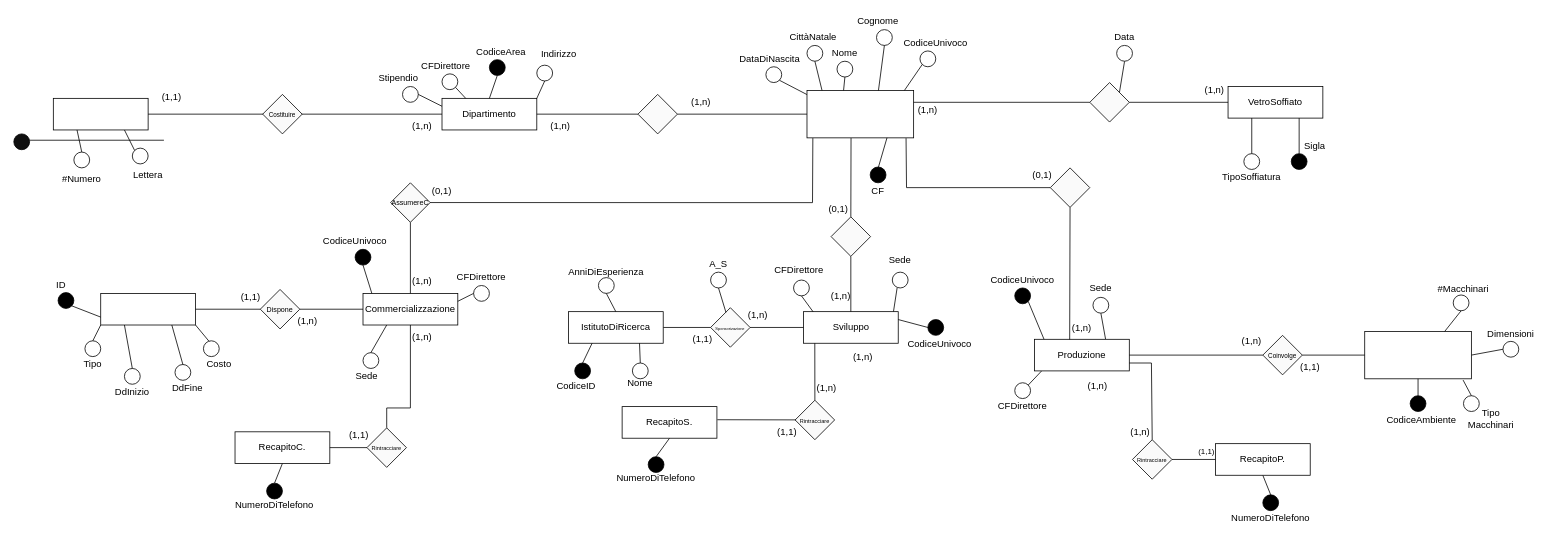
Some shapes in this 1548 by 540 pixel diagram are drawn without their labels. The shapes that lost their labels are listed below. From the top down, each one's centre as x and y in pixels, then its label:
At point (100, 114): "Sezioni".
At point (657, 114): "Lavorare".
At point (860, 114): "Dipendenti".
At point (1109, 102): "Controllare".
At point (1070, 187): "AssumereP".
At point (850, 236): "AssumereS".
At point (148, 309): "ModelloDiPubblicità".
At point (1417, 355): "Ambiente".
